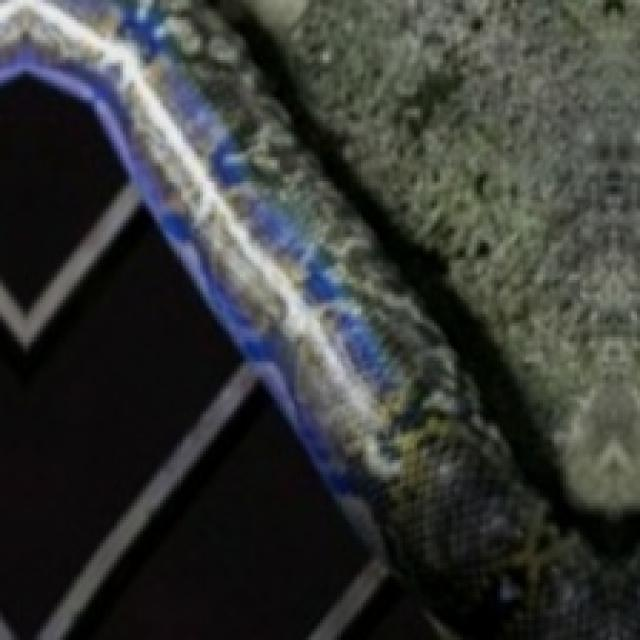reticulated python: (0, 0, 637, 637)
